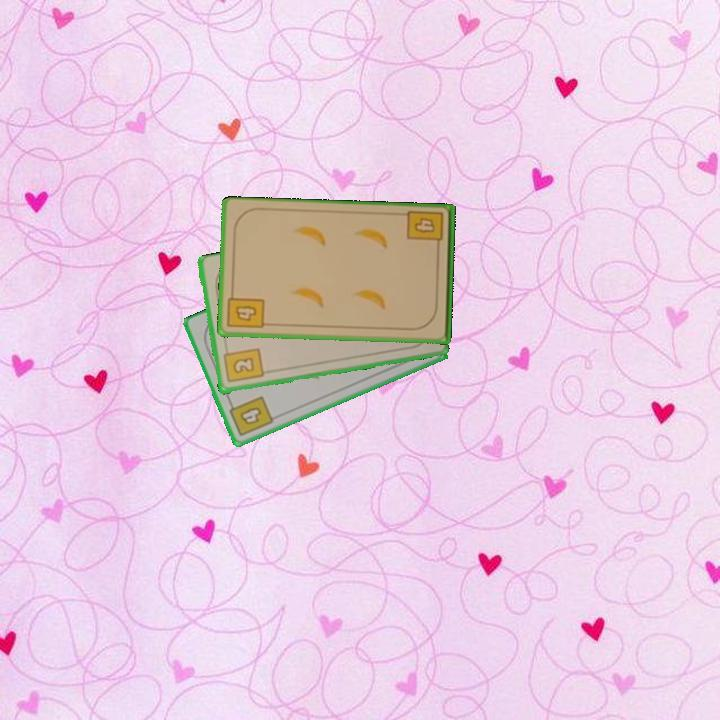2b: (219, 344, 266, 386)
4b: (225, 392, 276, 440), (404, 208, 447, 253), (224, 288, 267, 331)
